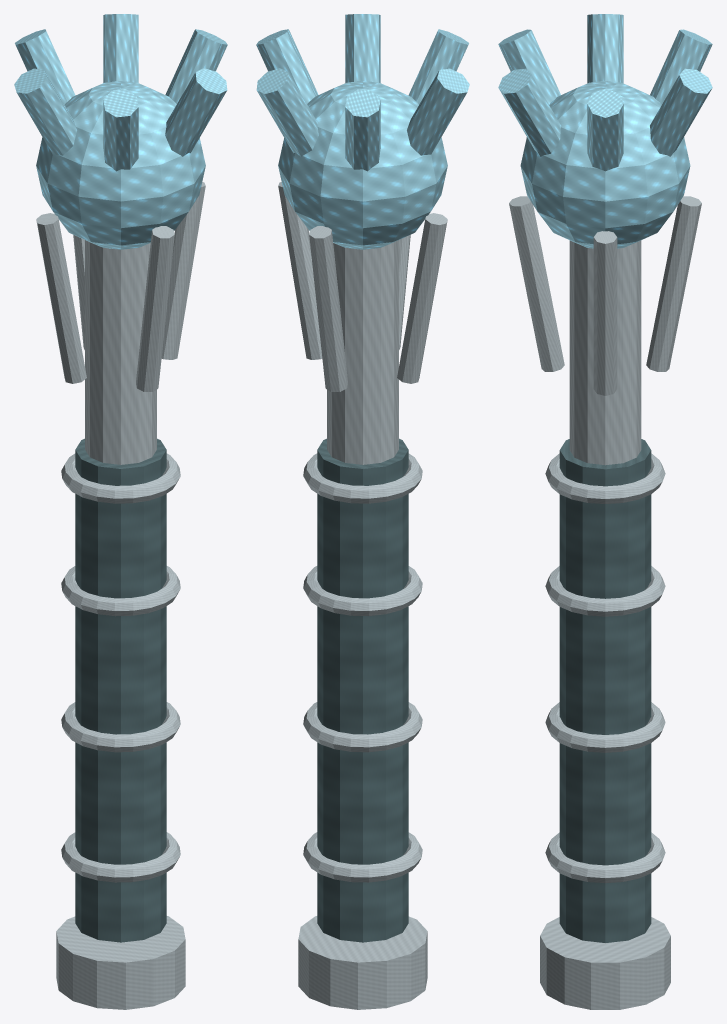
Rendered from underworld-tool-rime-chisel.glb.
3 views of the same model, side by side, from view 1: azimuth 30°, elevation 25°; view 2: azimuth 150°, elevation 25°; view 3: azimuth 270°, elevation 25° (orthographic).
Parts seen in each view (by area): view 1: rimewood-grip, ice-core, silver-spine, silver-pommel, precision-prong-2, precision-prong-3, precision-prong-0, ice-fin-5, ice-fin-3, ice-fin-4, silver-grip-0.34, silver-grip--0.3 (+6 smaller); view 2: rimewood-grip, ice-core, silver-spine, silver-pommel, precision-prong-2, precision-prong-1, precision-prong-0, ice-fin-1, ice-fin-3, ice-fin-2, silver-grip-0.34, silver-grip--0.3 (+6 smaller); view 3: rimewood-grip, ice-core, silver-spine, silver-pommel, precision-prong-1, precision-prong-3, precision-prong-0, ice-fin-1, ice-fin-5, ice-fin-0, silver-grip-0.15, silver-grip--0.08 (+5 smaller).
Boxes of the visible parts, x1,y1,x2,y2 form: rimewood-grip: (75, 438, 166, 942); ice-core: (36, 81, 205, 249); silver-spine: (85, 240, 156, 464); silver-pommel: (56, 916, 185, 1009); precision-prong-2: (36, 213, 86, 383); precision-prong-3: (136, 226, 174, 391); precision-prong-0: (161, 182, 205, 359); ice-fin-5: (165, 68, 227, 156); ice-fin-3: (14, 68, 76, 155); ice-fin-4: (103, 89, 138, 171); silver-grip-0.34: (61, 453, 180, 503); silver-grip--0.3: (61, 832, 180, 882); rimewood-grip: (317, 438, 408, 942); ice-core: (278, 81, 447, 249); silver-spine: (327, 240, 398, 464); silver-pommel: (298, 916, 427, 1009); precision-prong-2: (397, 213, 447, 383); precision-prong-1: (309, 226, 347, 391); precision-prong-0: (278, 182, 322, 359); ice-fin-1: (256, 68, 318, 156); ice-fin-3: (407, 68, 469, 155); ice-fin-2: (345, 89, 380, 171); silver-grip-0.34: (303, 453, 422, 503); silver-grip--0.3: (303, 832, 422, 882); rimewood-grip: (559, 439, 651, 942); ice-core: (520, 81, 690, 248); silver-spine: (569, 240, 641, 465); silver-pommel: (540, 917, 670, 1009); precision-prong-1: (646, 196, 701, 371); precision-prong-3: (509, 196, 564, 371); precision-prong-0: (593, 231, 617, 395); ice-fin-1: (650, 68, 712, 156); ice-fin-5: (498, 68, 560, 156); ice-fin-0: (587, 89, 623, 171); silver-grip-0.15: (545, 566, 665, 616); silver-grip--0.08: (545, 702, 665, 752).
Bounding box in the file's own units: 0.3694 × 1.57 × 0.3282.
3 materials, 3 textured.
